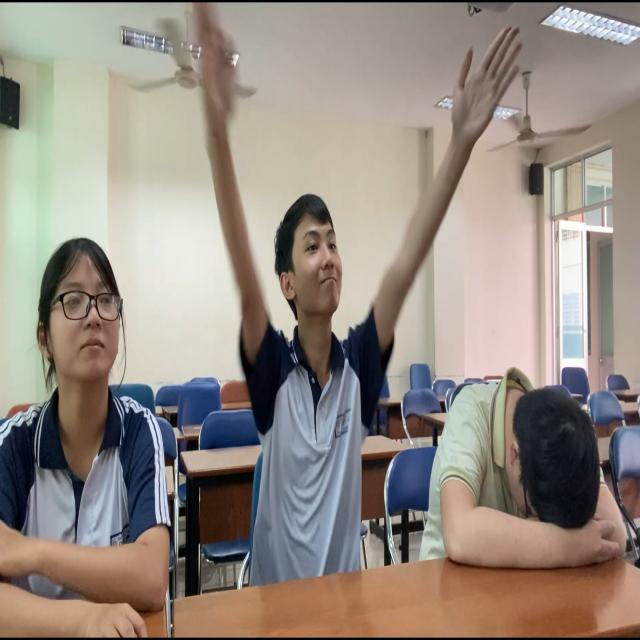sleep: (421, 343, 635, 611)
